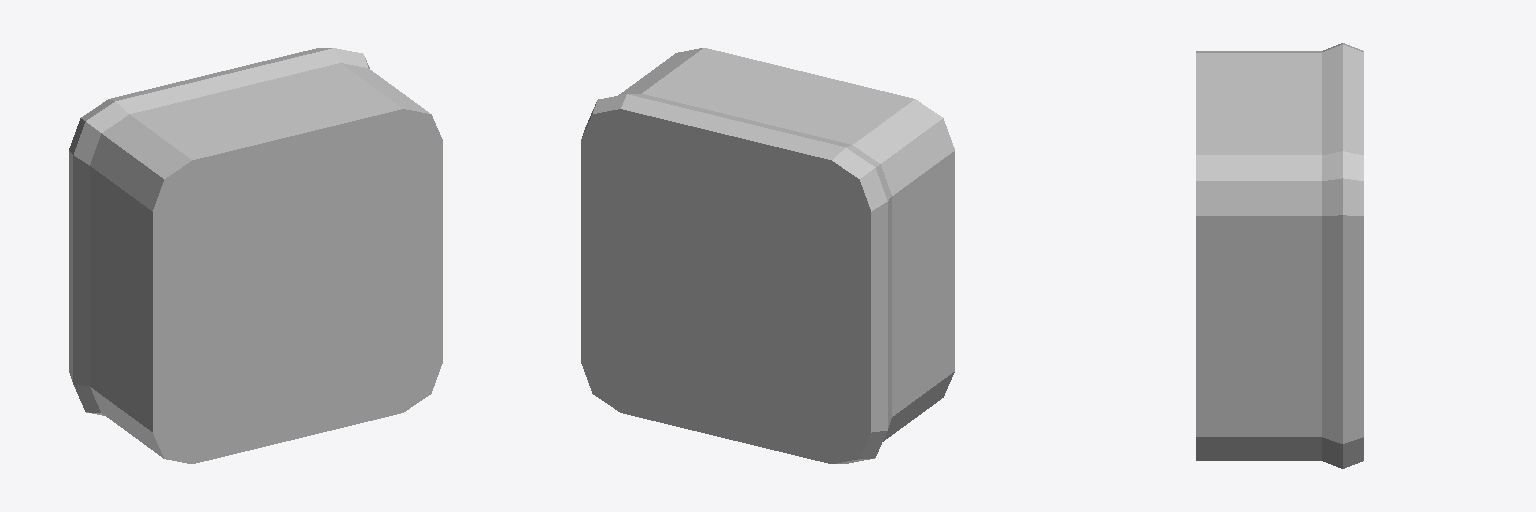
The model's file is block-snow-large.001.obj.
3 views of the same model, side by side, from view 1: azimuth 30°, elevation 25°; view 2: azimuth 150°, elevation 25°; view 3: azimuth 270°, elevation 25° (orthographic).
Parts seen in each view (by area): view 1: block-snow-large.001; view 2: block-snow-large.001; view 3: block-snow-large.001.
Boxes of the visible parts, box(x1,y1,x2,y2) form: block-snow-large.001: box(69, 48, 442, 463); block-snow-large.001: box(581, 48, 954, 463); block-snow-large.001: box(1196, 43, 1363, 468).
Bounding box in the file's own units: 2.08 × 2.08 × 1.